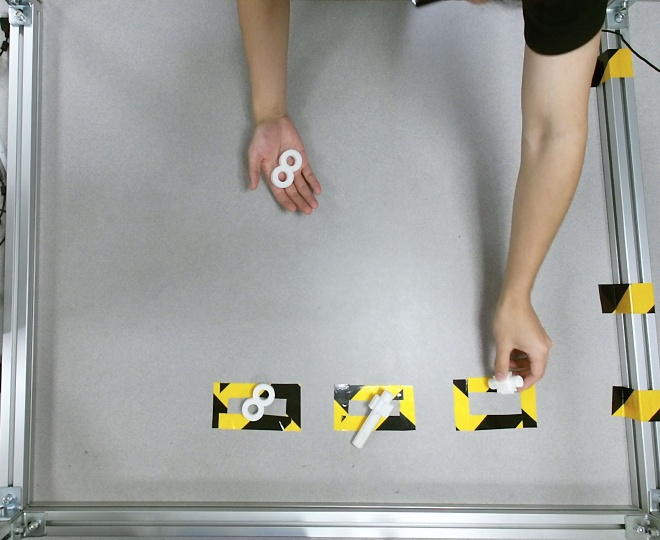stage_1: (270, 150, 302, 187)
